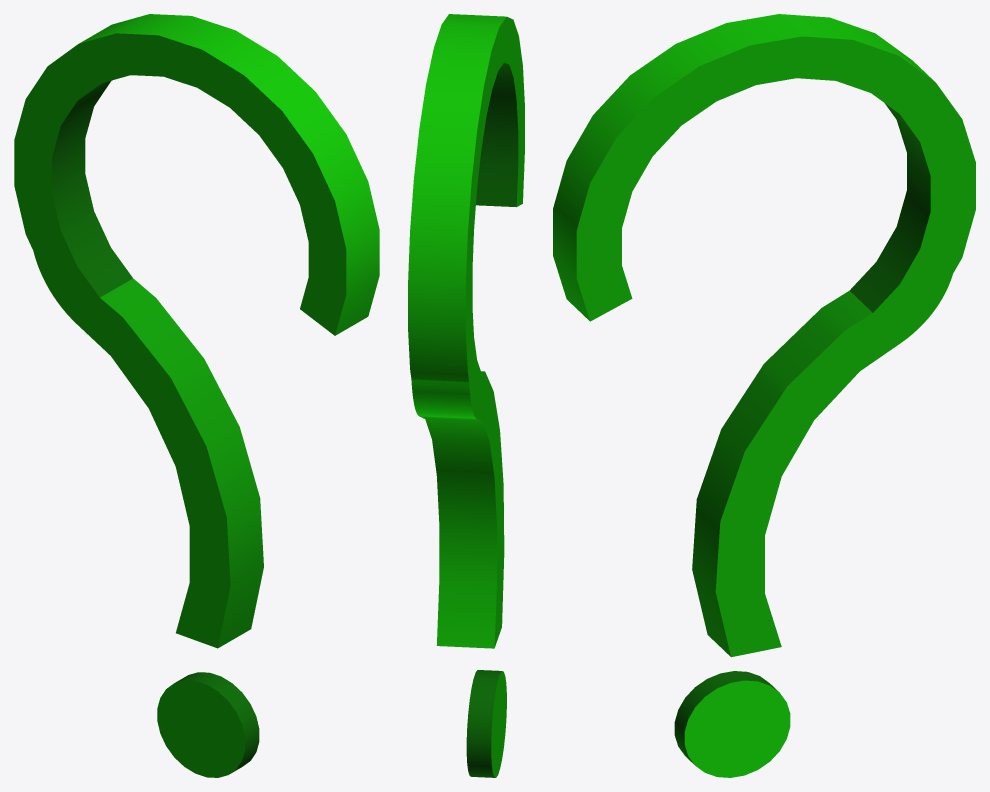
Rendered from QuestionMark.dae.
3 views of the same model, side by side, from view 1: azimuth 30°, elevation 25°; view 2: azimuth 150°, elevation 25°; view 3: azimuth 270°, elevation 25° (orthographic). The views are drawn at different scales.
Visible parts, largest first — view 1: Component_2 (×6); view 2: Component_2 (×7); view 3: Component_2 (×6).
Boxes of the visible parts, <box> form: Component_2 (×6): <box>14,14,379,777</box>; Component_2 (×7): <box>408,14,524,777</box>; Component_2 (×6): <box>553,14,975,777</box>.
Bounding box in the file's own units: 6.72 × 13.2 × 25.64.
